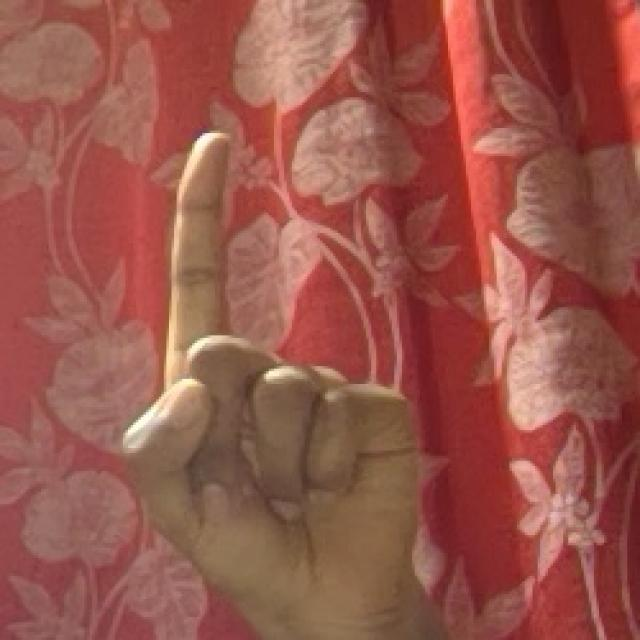Numeric-1: (117, 127, 424, 631)
